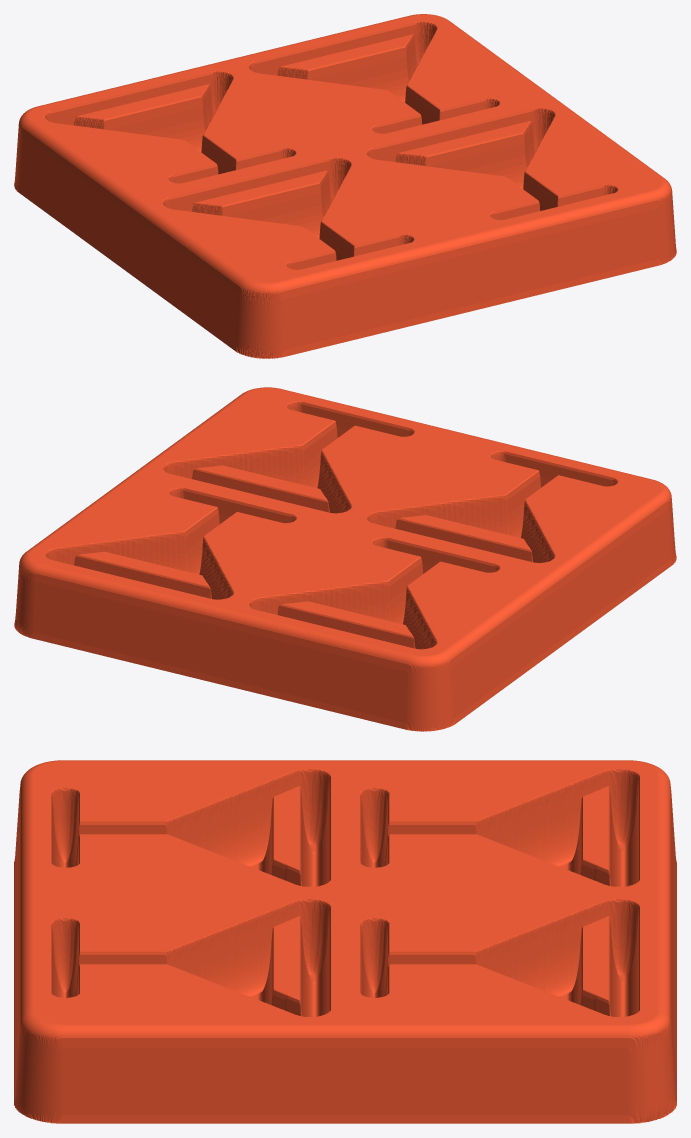
File: mold.glb
The picture shows the model from 3 angles, top to bottom: view 1: azimuth 30°, elevation 25°; view 2: azimuth 150°, elevation 25°; view 3: azimuth 270°, elevation 25°; orthographic projection. The views are drawn at different scales.
Parts seen in each view (by area): view 1: geometry_0; view 2: geometry_0; view 3: geometry_0.
Boxes of the visible parts, x1,y1,x2,y2 form: geometry_0: (14, 14, 676, 358); geometry_0: (14, 387, 676, 731); geometry_0: (14, 760, 676, 1123).
Size of the model in its own units: 0.1214 by 0.0185 by 0.1218.
